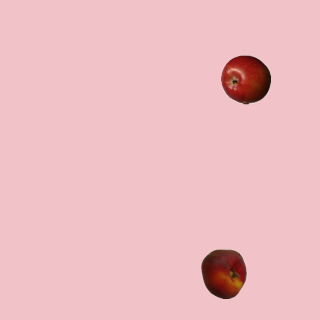Apple Braeburn: (220, 54, 270, 104)
Nectarine Flat: (198, 248, 248, 298)
